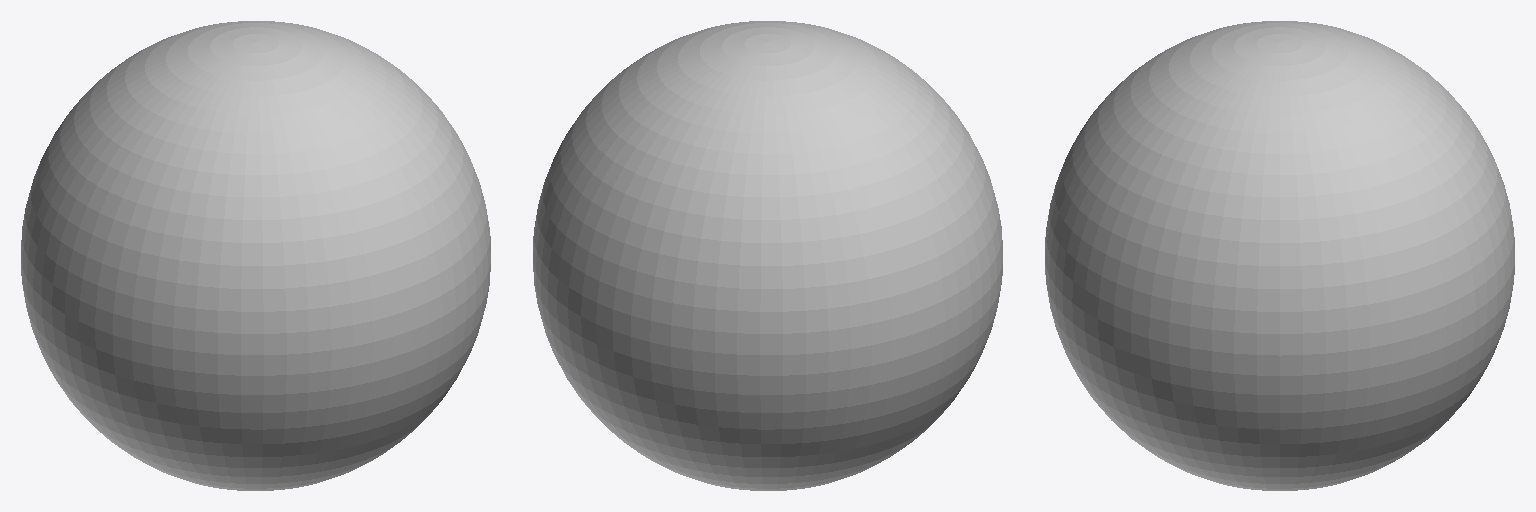
The model's file is SkyBoxAnime.obj.
3 views of the same model, side by side, from view 1: azimuth 30°, elevation 25°; view 2: azimuth 150°, elevation 25°; view 3: azimuth 270°, elevation 25° (orthographic).
Parts seen in each view (by area): view 1: Sphere__0; view 2: Sphere__0; view 3: Sphere__0.
Boxes of the visible parts, box(x1,y1,x2,y2) form: Sphere__0: box(21, 21, 490, 490); Sphere__0: box(533, 21, 1002, 490); Sphere__0: box(1045, 21, 1514, 490).
Size of the model in its own units: 1000 by 1000 by 1000.